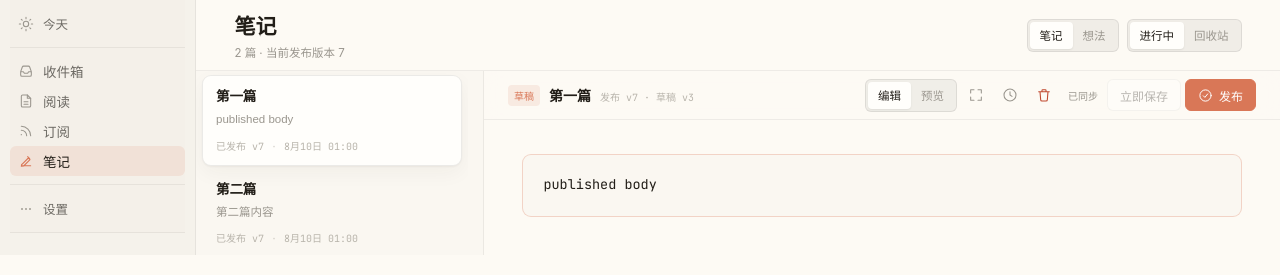
it: NotesSurface draft barriers › persists a confirmed dirty switch before changing the selected note
Replace the text in the text box named "笔记内容" with "确认后的草稿" at (882, 185), box [522,154,1242,217]
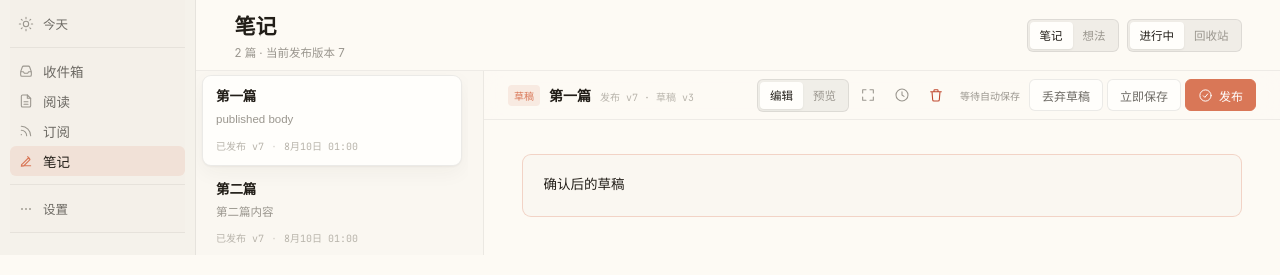
Click the button "第二篇 第二篇内容 已发布 v7 8月10日 01:00" at (236, 189), box [202,168,462,258]
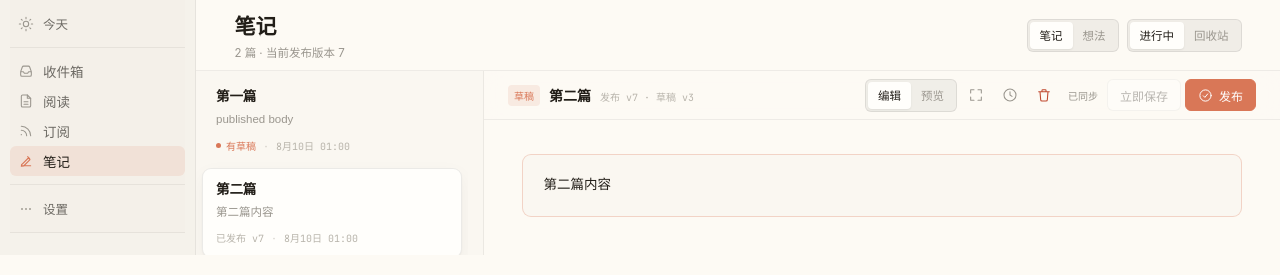
Check: the text box named "笔记内容" holds "第二篇内容", box [522,154,1242,217]
